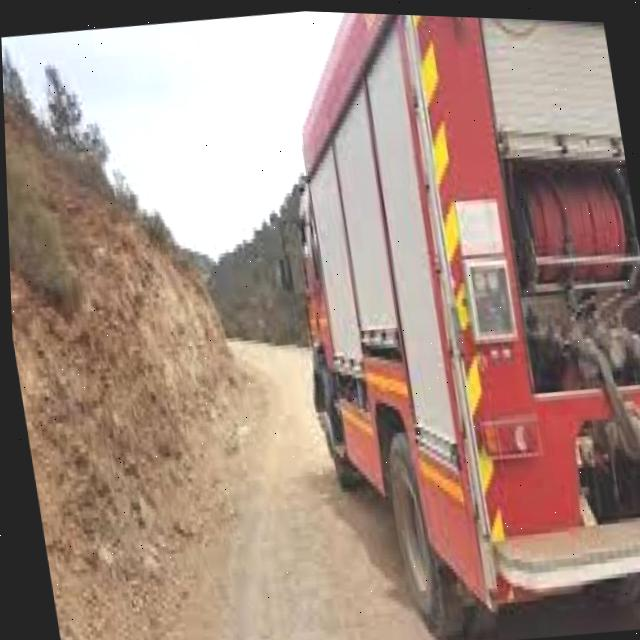emergency: (247, 7, 640, 640)
